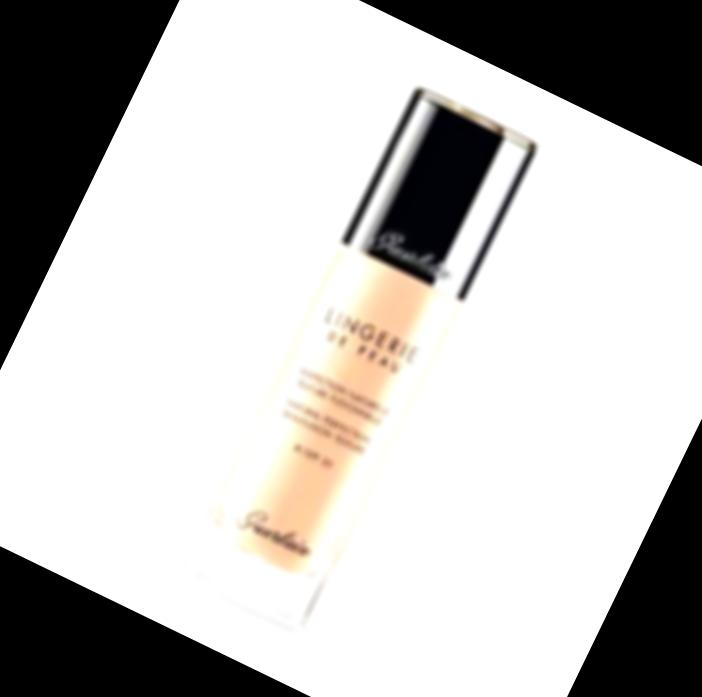cosmetic: (180, 83, 544, 635)
